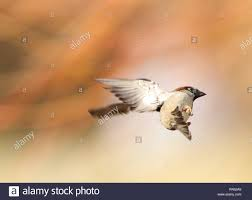hsparrow: (88, 75, 208, 148)
